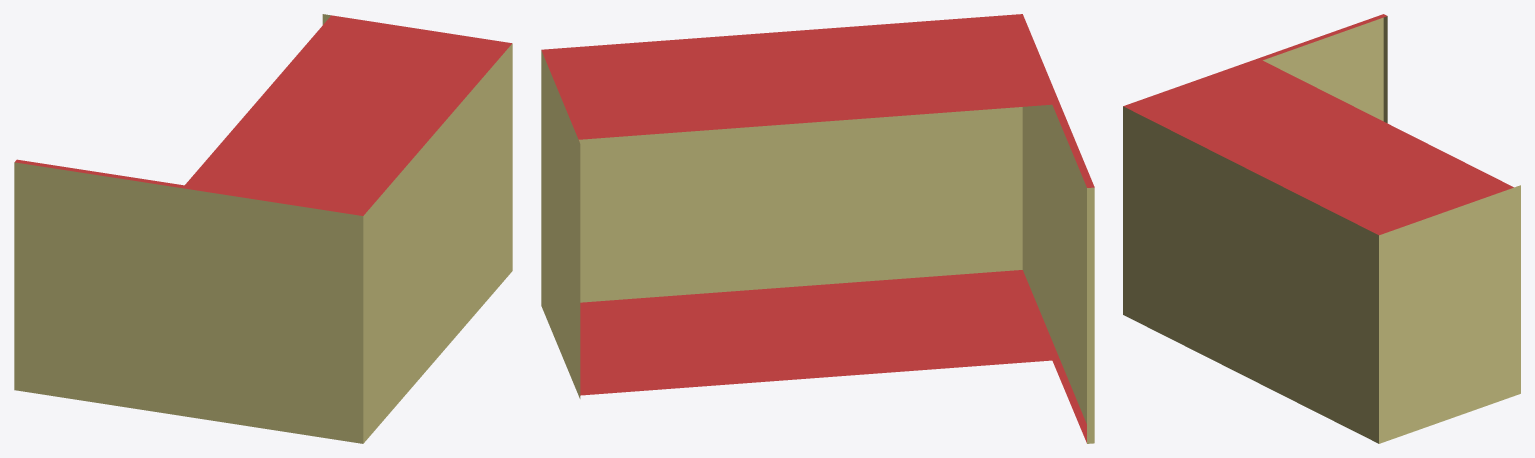
The picture shows the model from 3 angles, left to right: view 1: azimuth 30°, elevation 25°; view 2: azimuth 150°, elevation 25°; view 3: azimuth 270°, elevation 25°; orthographic projection. The views are drawn at different scales.
Bounding box in the file's own units: 13.47 × 10.23 × 5.92.
